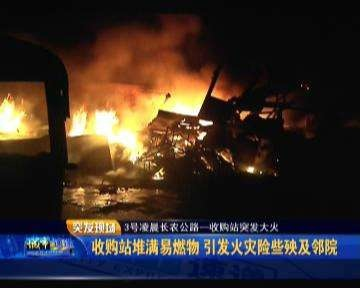fire: (71, 103, 145, 161), (160, 91, 225, 128), (1, 94, 33, 136)
